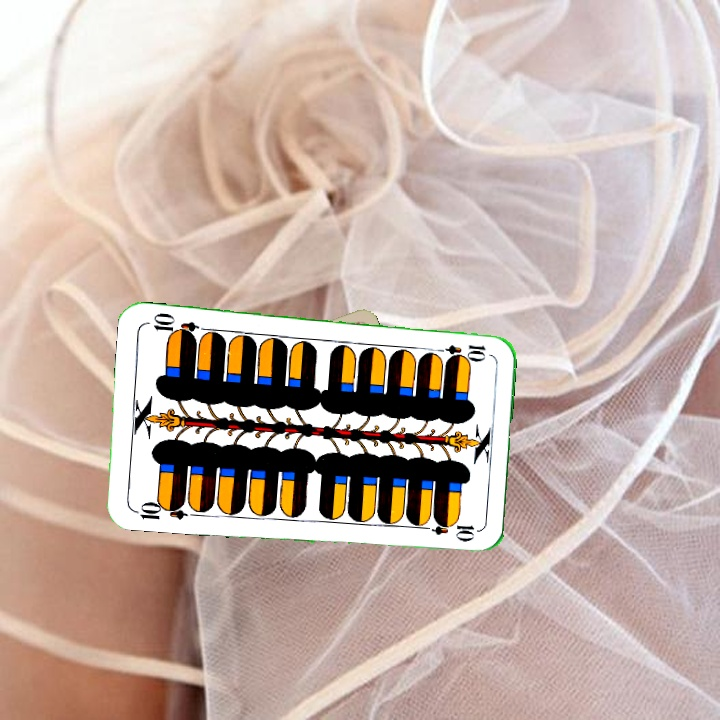E10: (129, 496, 188, 523), (431, 341, 488, 361)
